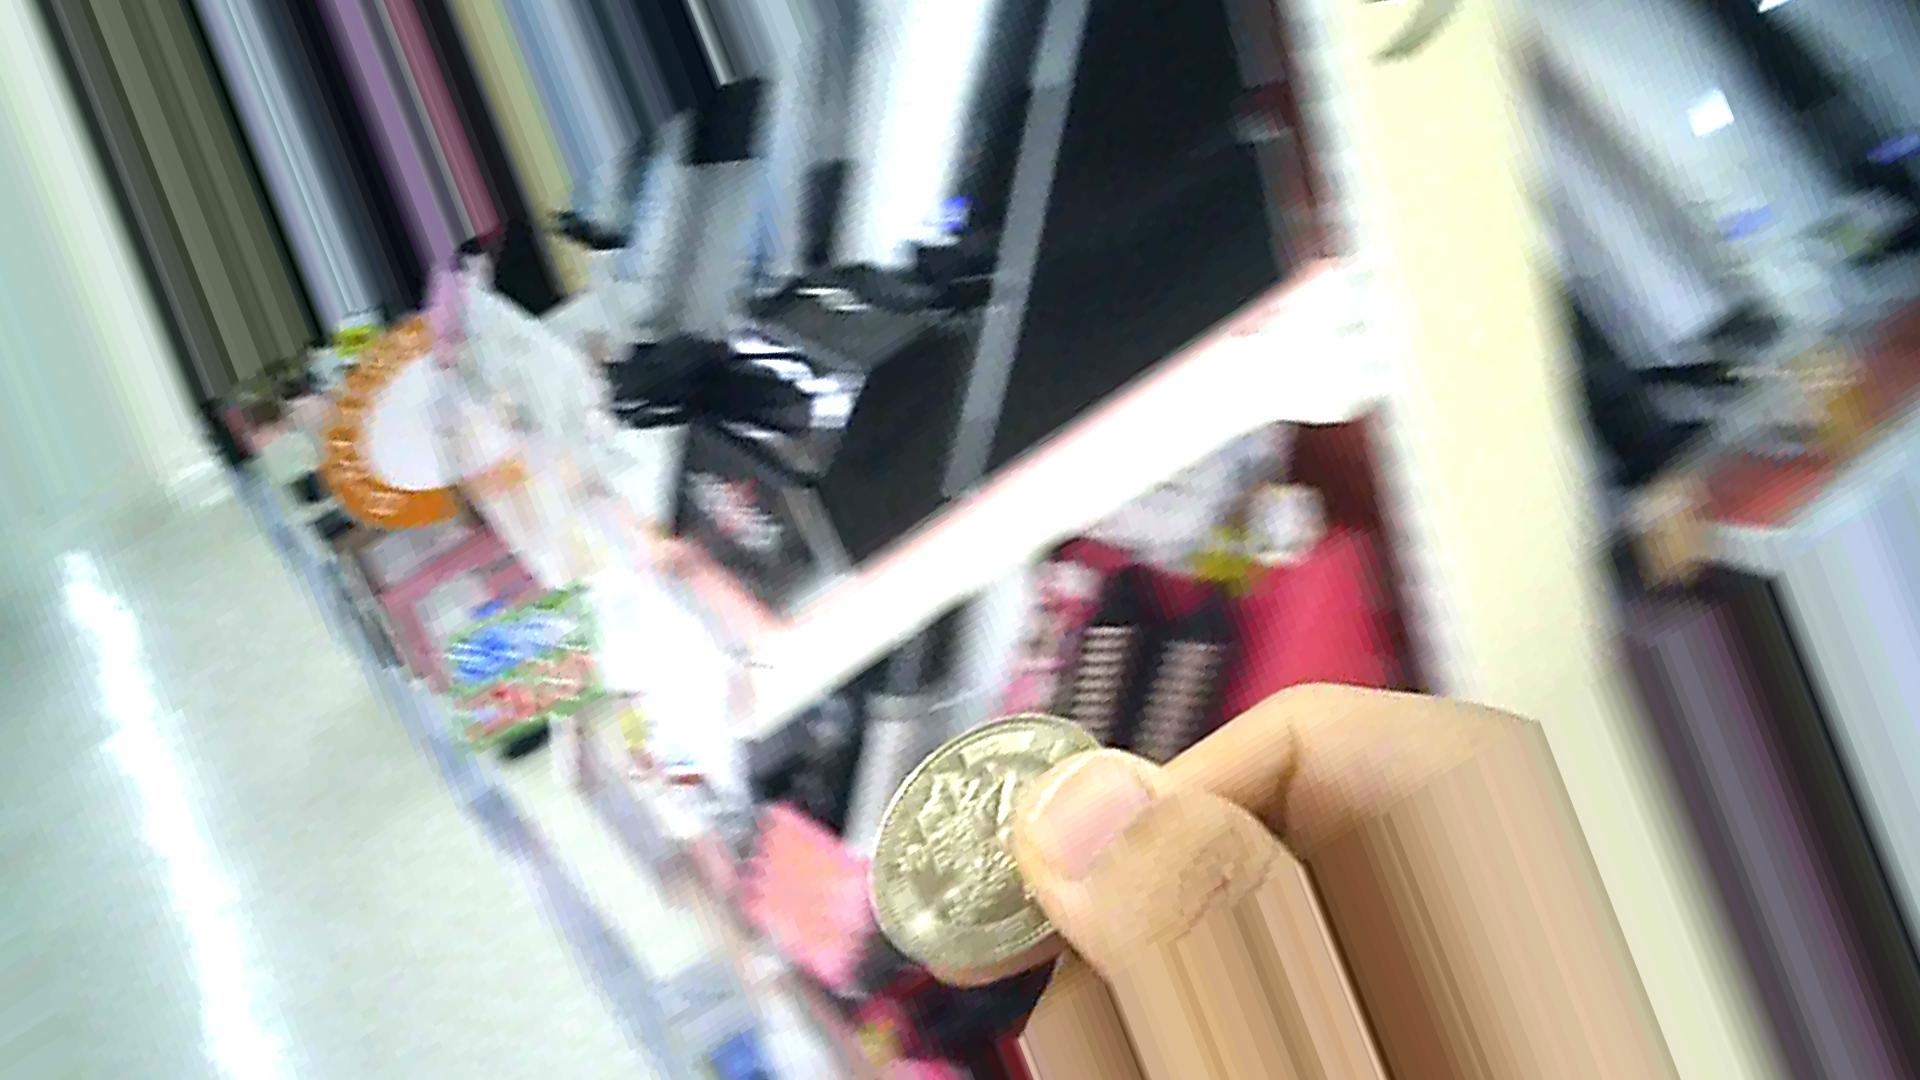500 Yen: (847, 720, 1110, 963)
